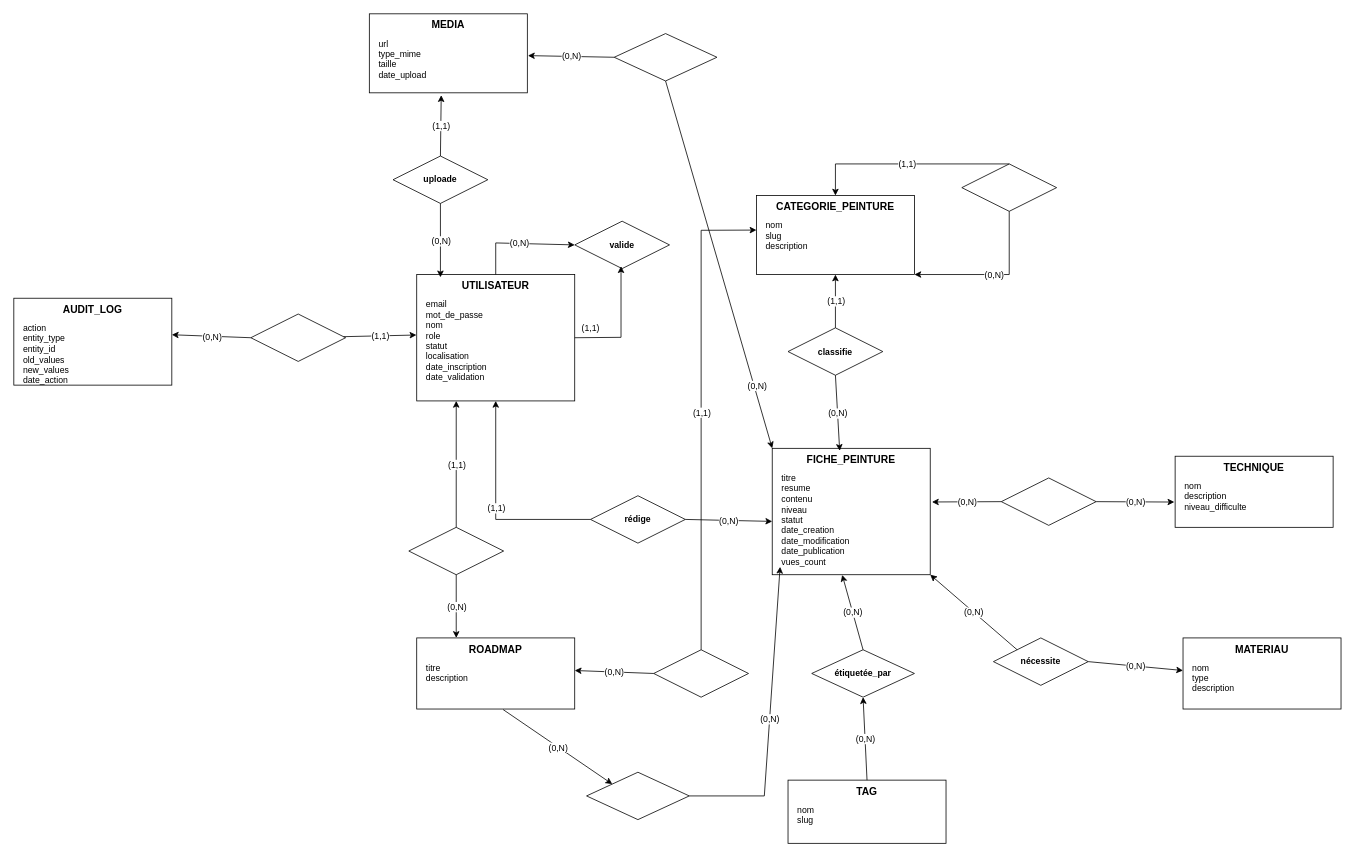
Image size: 1355x857. Some labels were removed from this diagram. The centre of each missing label's shape, as x and y in pixels:
"composée_de (ordre)" belongs at [637,795].
"contient" belongs at [1009,187].
"crée" belongs at [456,551].
"génère" belongs at [298,337].
"illustrée_par" belongs at [665,57].
"organise" belongs at [701,673].
"utilise" belongs at [1048,501].
